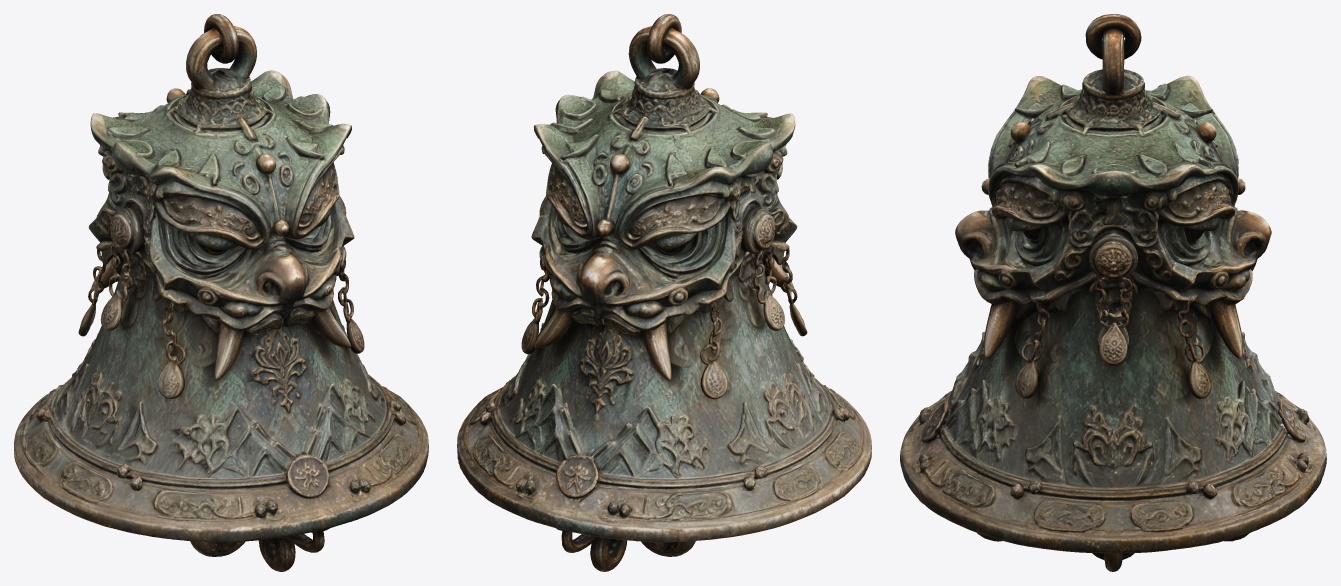
The model's file is varco_featured_character_pbr_a.glb.
3 views of the same model, side by side, from view 1: azimuth 30°, elevation 25°; view 2: azimuth 150°, elevation 25°; view 3: azimuth 270°, elevation 25° (orthographic). The views are drawn at different scales.
Visible parts, largest first — view 1: texture_mapping; view 2: texture_mapping; view 3: texture_mapping.
Part boxes in pixels (left/top/right/bottom): texture_mapping: left=14, top=14, right=428, bottom=571; texture_mapping: left=457, top=14, right=871, bottom=571; texture_mapping: left=900, top=14, right=1326, bottom=571.
Bounding box in the file's own units: 0.6979 × 0.999 × 0.6984.
Materials: 1 (1 with a texture image).
